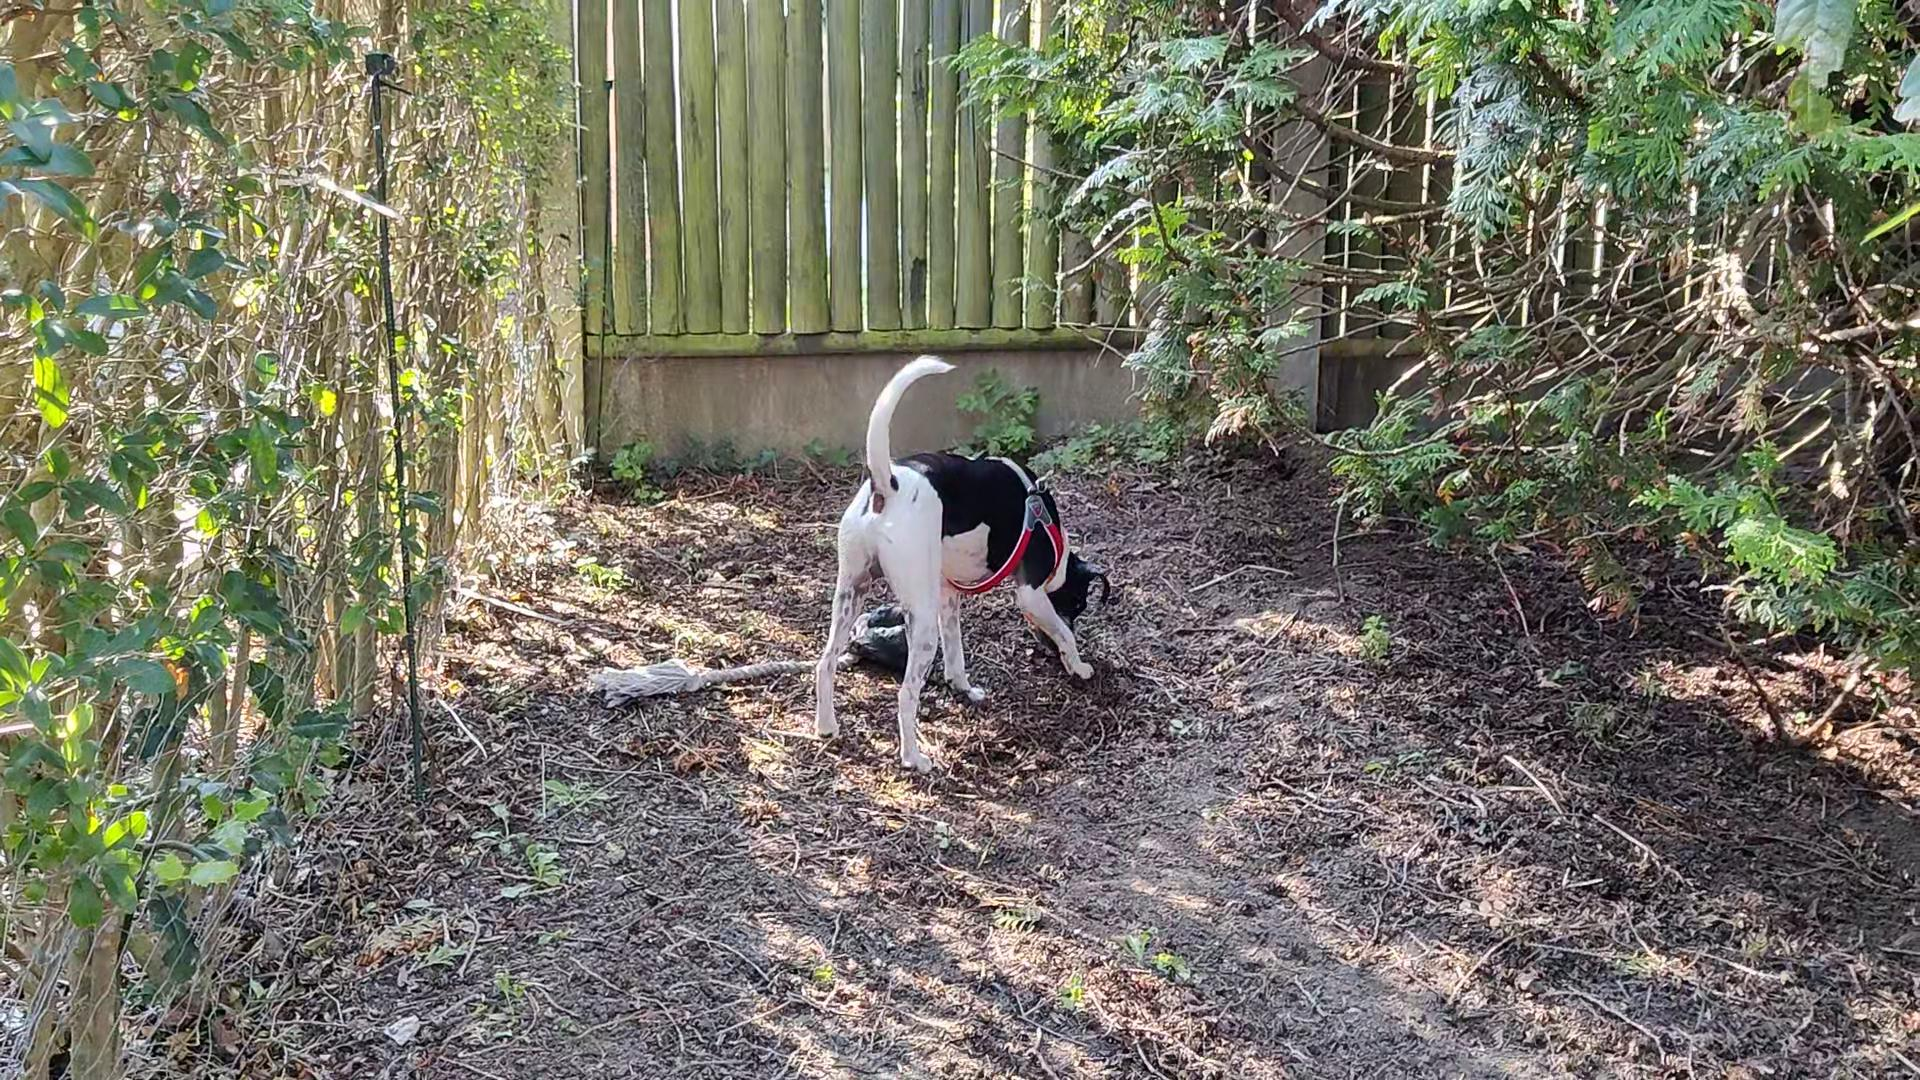Dog: (779, 355, 1135, 771)
